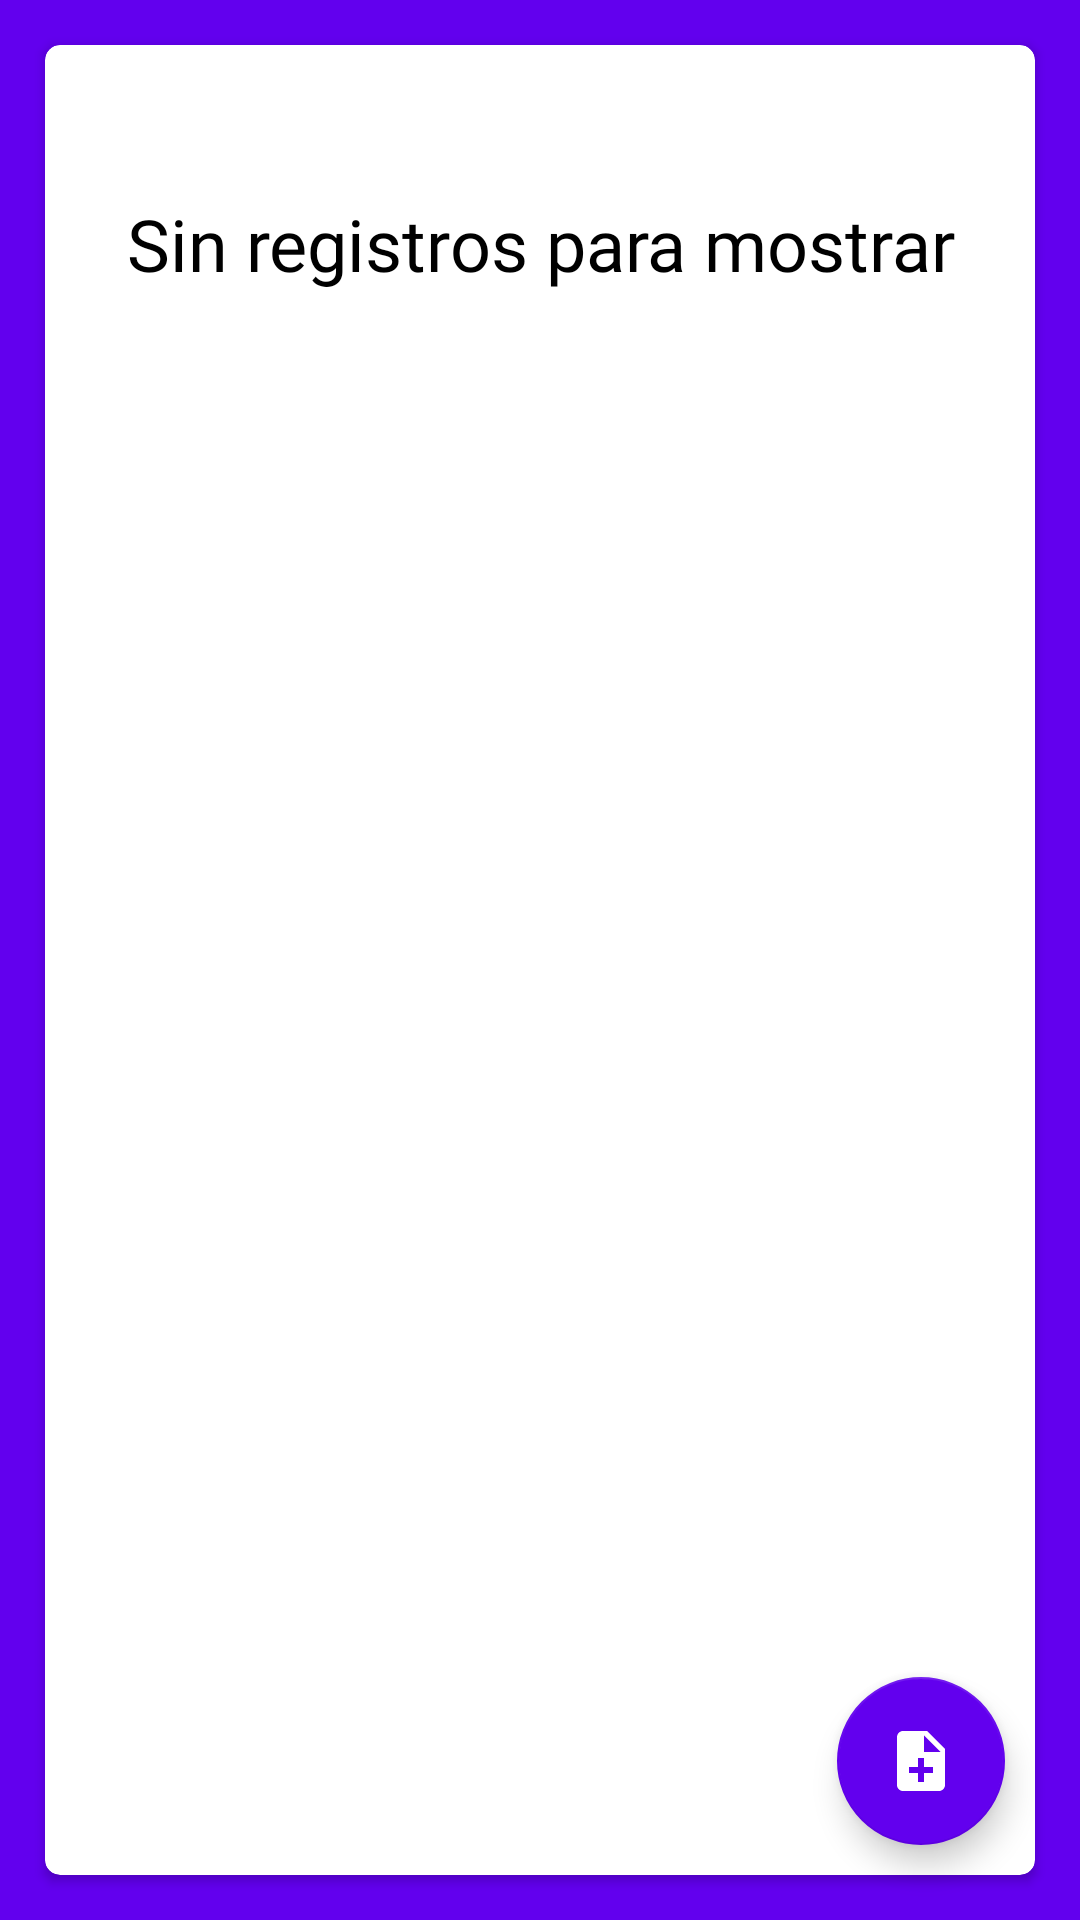

Point at icon controls on the screen. Image size 1080px x 1920px, points as point (x, y).
note add: point (921, 1761)
